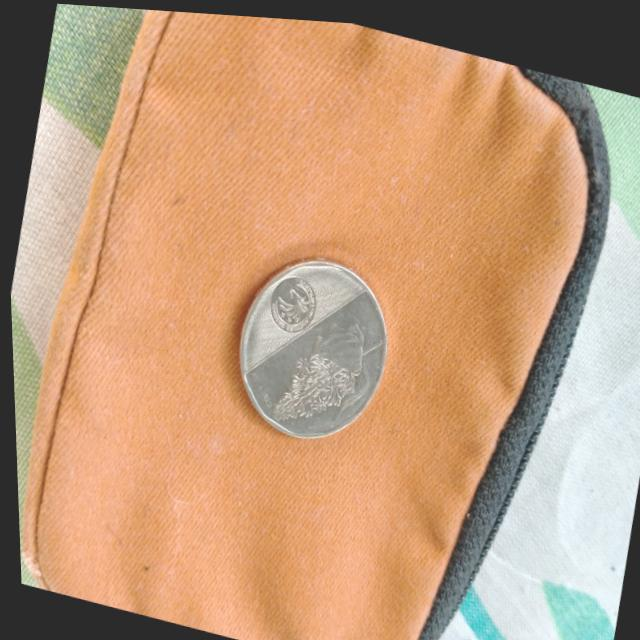10_New_Back: (259, 288, 397, 447)
